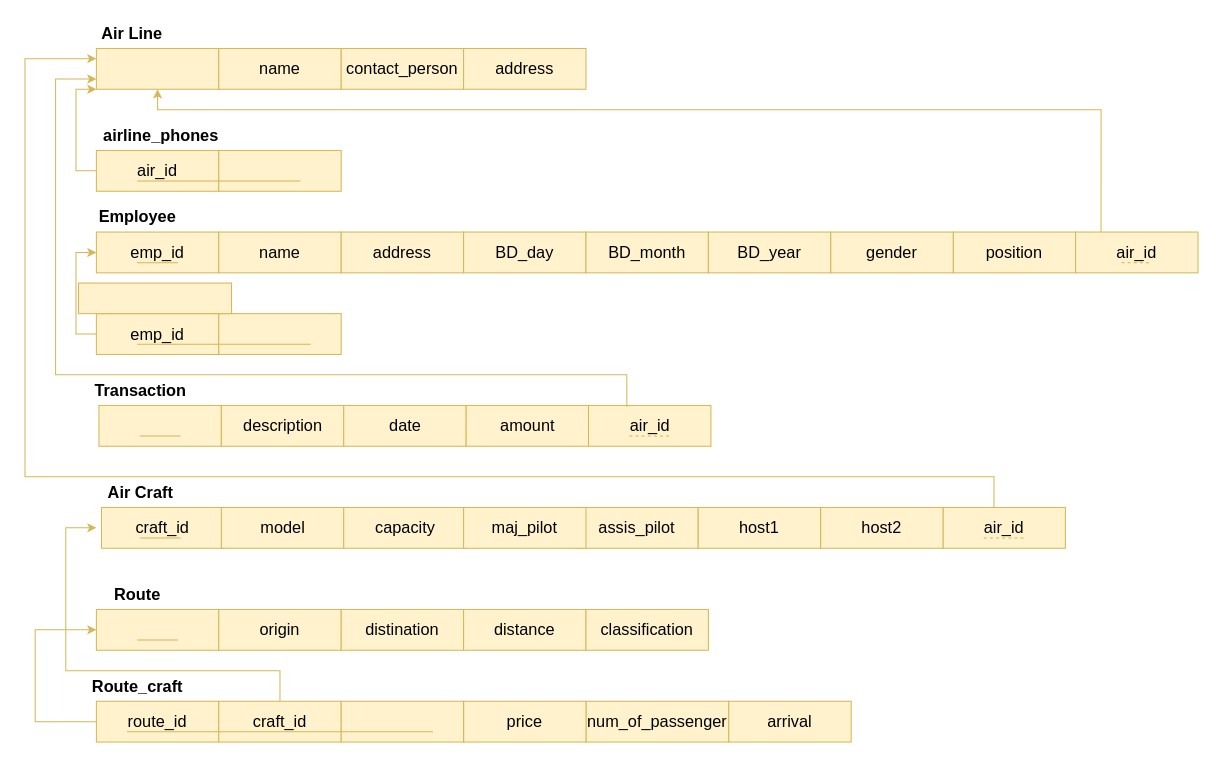
The diagram is 1216 pixels wide and 768 high, and some of its shapes have lost their labels. Here are the shapes that lost their labels. From the top down, the centre of each, then its label:
the point at 157,68: id
the point at 279,170: phones
the point at 155,298: emp_qualification
the point at 279,333: qualifications
the point at 159,425: tran_id
the point at 157,629: rout_id
the point at 402,721: departure
